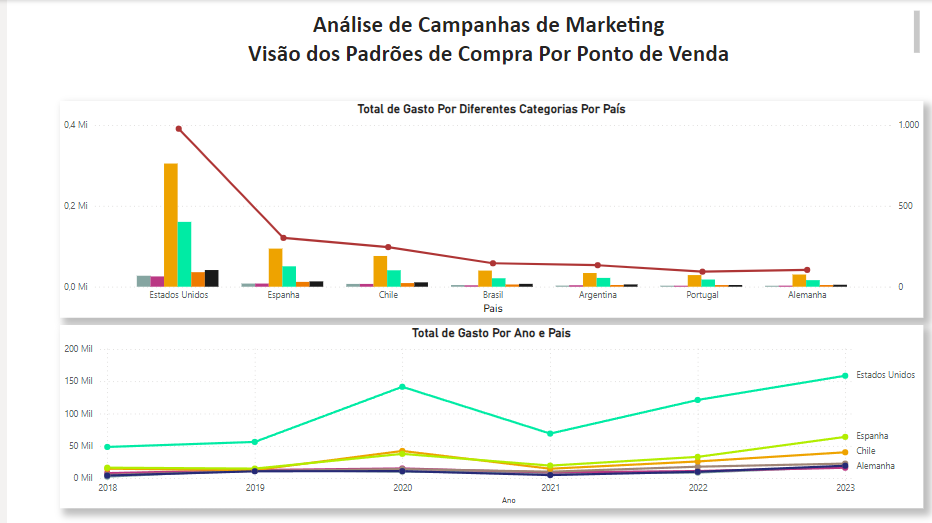

What the dashboard file says about the page in this screenshot:
{"tool":"powerbi","page":{"name":"Visão Pontos de Vendas","canvas":[1280,720],"ordinal":3},"visuals":[{"type":"lineClusteredColumnComboChart","title":"Total de Gasto Por Diferentes Categorias Por País","fields":{"Category":["DadosMarketing.Pais"],"Y":["Sum(DadosMarketing.Gasto com Alimentos)","Sum(DadosMarketing.Gasto com Brinquedos)","Sum(DadosMarketing.Gasto com Eletronicos)","Sum(DadosMarketing.Gasto com Moveis)","Sum(DadosMarketing.Gasto com Utilidades)","Sum(DadosMarketing.Gasto com Vestuario)"],"Y2":["CountNonNull(DadosMarketing.ID)"]},"box":[72.9,138.9,1186.5,298.3],"z":0},{"type":"lineChart","title":"Total de Gasto Por Ano e Pais","fields":{"Series":["DadosMarketing.Pais"],"Y":["DadosMarketing.GastoTotal"],"Category":["DadosMarketing.Data Cadastro.Variation.Hierarquia de datas.Ano"]},"box":[72.9,446.8,1186.5,251.6],"z":1},{"type":"textbox","box":[72.9,9.6,1186.5,83.9],"z":2}]}

Visuals, with their boxes in screenshot pixels (x1, y1, x2, y2), scaled from the page's 1280x720 canvas onto the 932x523 screenshot:
"Total de Gasto Por Diferentes Categorias Por País" lineClusteredColumnComboChart: box=[53, 101, 917, 318]
"Total de Gasto Por Ano e Pais" lineChart: box=[53, 325, 917, 507]
textbox: box=[53, 7, 917, 68]
